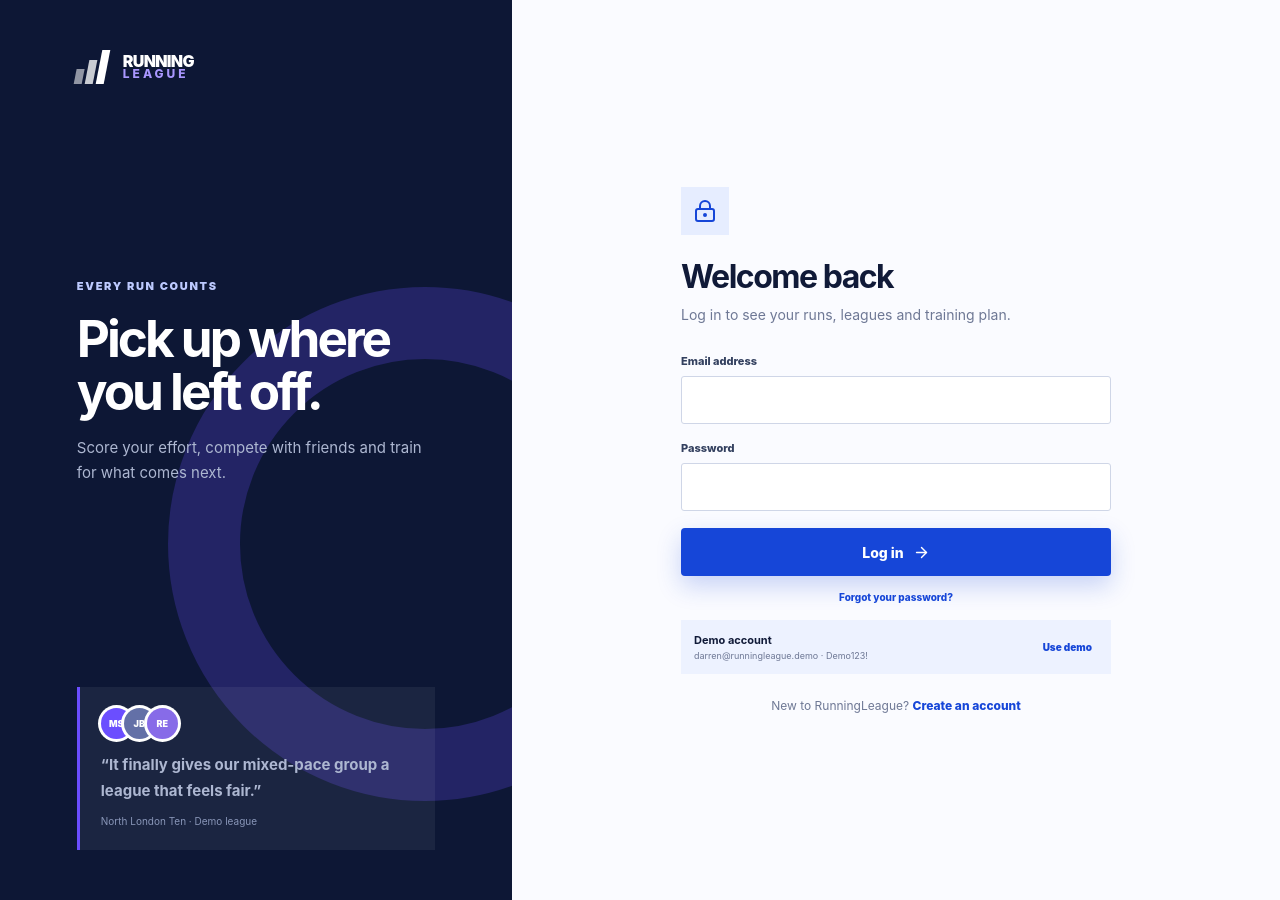
Test: RunningLeague product › logs in with the demo account
Step 1. Click the button "Use demo" → x=1067, y=647, box [1037,640,1098,654]
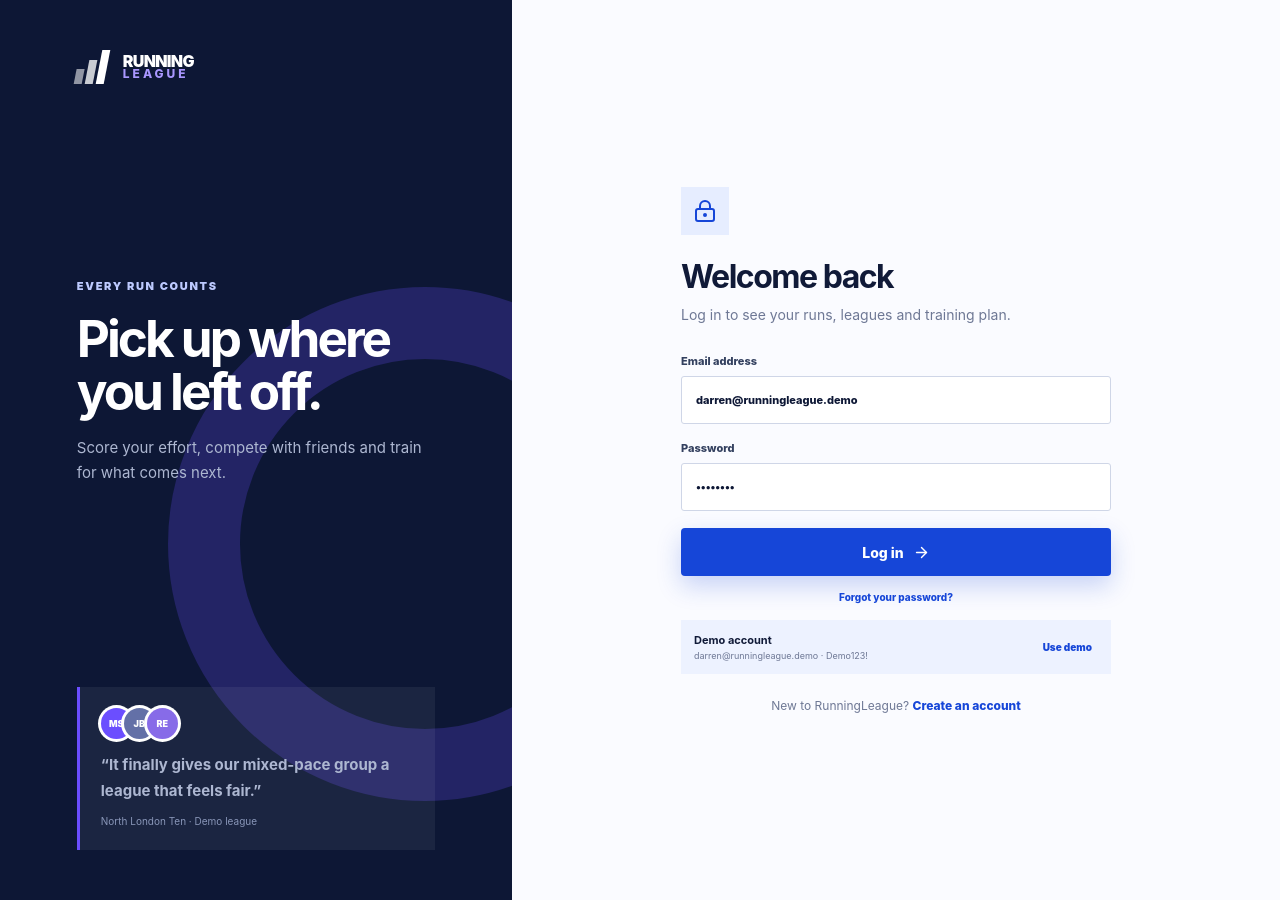
Step 2. Click the button "Log in" → x=896, y=552, box [681,528,1111,576]
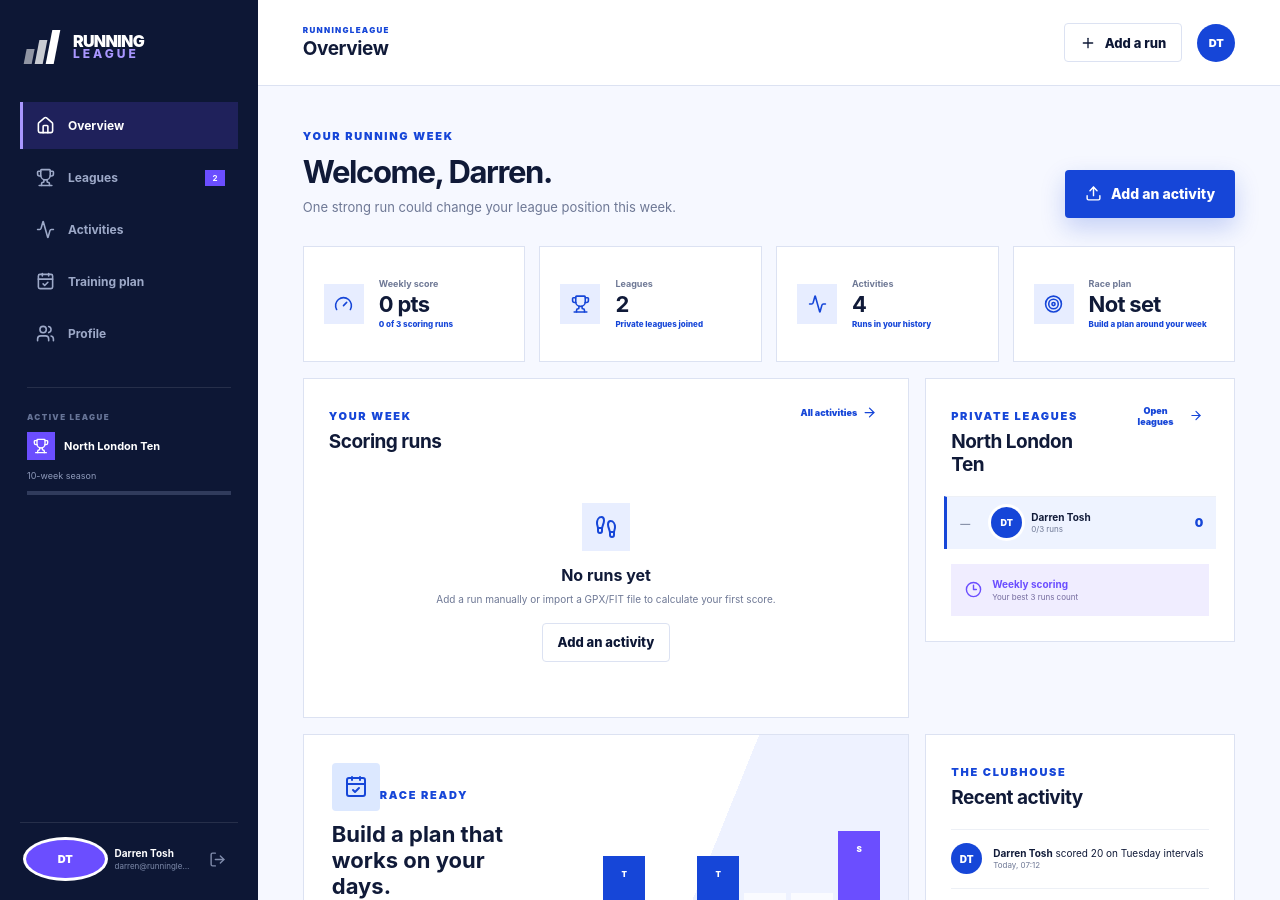
expect the heading "Welcome, Darren." is shown: met, box [303,153,552,190]
